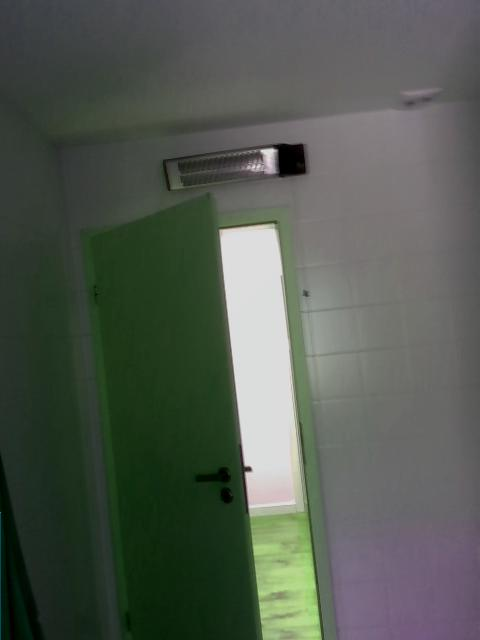semi_door: (79, 188, 341, 639)
